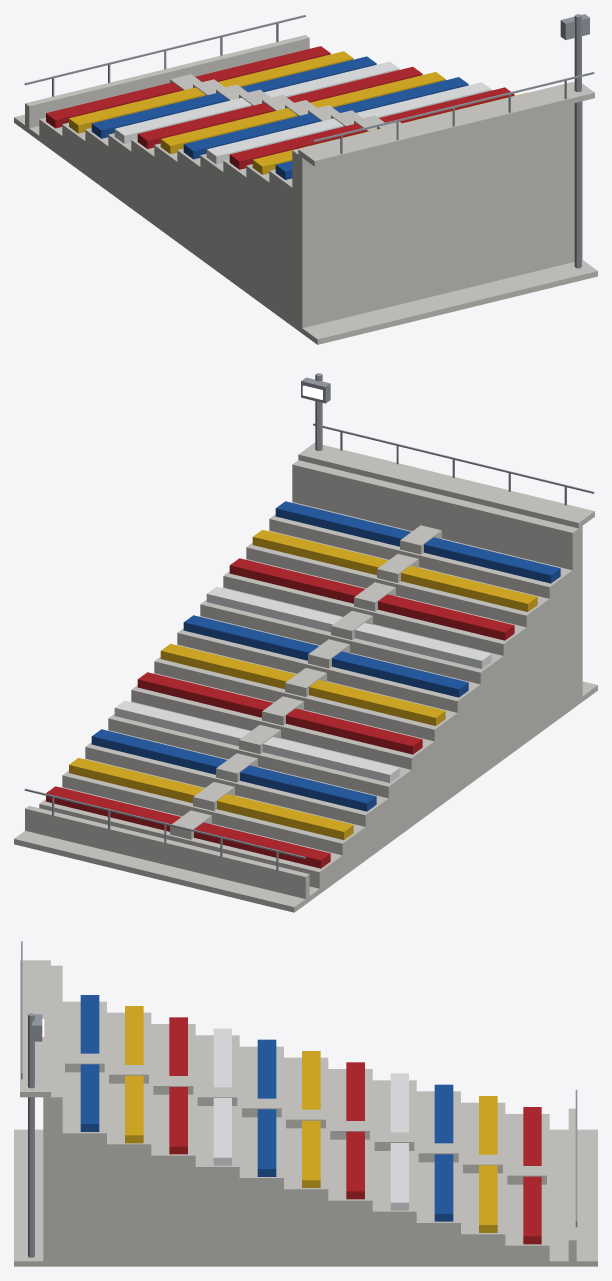
Rendered from grada-bcn.glb.
3 renders of one model, top to bottom at view 1: azimuth 30°, elevation 25°; view 2: azimuth 150°, elevation 25°; view 3: azimuth 270°, elevation 25°, orthographic. The views are drawn at different scales.
Visible parts, largest first — view 1: grada-bcn; view 2: grada-bcn; view 3: grada-bcn.
Boxes of the visible parts, <box> form: grada-bcn: <box>14,14,597,344</box>; grada-bcn: <box>14,373,597,912</box>; grada-bcn: <box>14,941,597,1266</box>.
Size of the model in its own units: 16.1 by 14 by 30.
